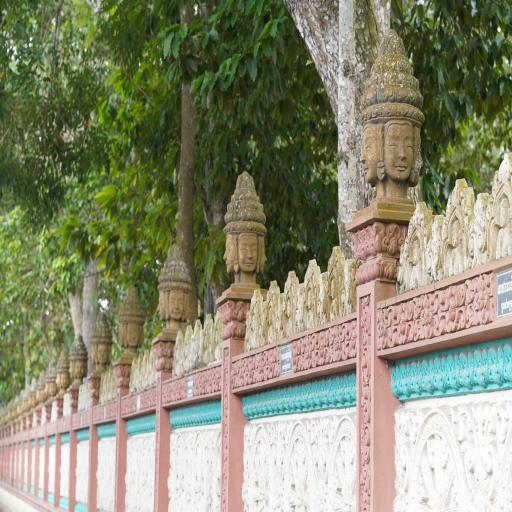hoa: (414, 409, 466, 512), (280, 419, 314, 512), (327, 415, 359, 509), (246, 422, 273, 512), (443, 286, 461, 334), (472, 278, 490, 323), (418, 293, 434, 338), (393, 304, 411, 344), (316, 330, 328, 367), (302, 334, 314, 370), (265, 350, 278, 380), (331, 326, 342, 361), (378, 310, 388, 348), (348, 320, 358, 358), (290, 341, 300, 373)
la: (467, 192, 489, 264), (425, 215, 443, 282), (344, 259, 357, 311), (383, 222, 402, 256), (317, 274, 329, 324), (295, 282, 306, 334), (450, 179, 468, 206), (498, 152, 512, 185), (461, 186, 475, 216), (258, 301, 267, 347), (372, 222, 384, 256), (420, 210, 435, 236), (489, 167, 502, 196), (411, 205, 428, 224), (444, 194, 456, 220), (349, 232, 360, 259), (401, 232, 412, 258), (366, 225, 374, 260), (330, 248, 344, 268), (267, 282, 279, 304), (306, 257, 318, 278), (234, 300, 246, 321), (384, 261, 397, 280), (356, 229, 365, 256), (361, 228, 369, 258), (486, 194, 494, 221), (286, 272, 298, 290), (406, 218, 420, 232), (441, 218, 450, 239), (227, 299, 235, 322), (252, 289, 264, 303), (399, 242, 406, 264), (365, 264, 373, 283), (372, 264, 382, 279), (361, 266, 369, 284), (354, 267, 362, 284), (325, 260, 332, 278), (301, 270, 308, 287), (222, 304, 228, 323), (236, 325, 244, 339), (282, 293, 288, 311), (218, 305, 223, 324), (220, 328, 229, 338), (229, 325, 234, 338)
than: (347, 23, 432, 229), (219, 166, 273, 302), (157, 244, 192, 344), (116, 284, 145, 356), (383, 118, 411, 178), (90, 311, 116, 373), (358, 120, 380, 182), (67, 331, 91, 386), (236, 230, 258, 274), (496, 197, 510, 257), (409, 239, 424, 289), (414, 124, 425, 188), (222, 230, 238, 273), (449, 221, 462, 273), (56, 349, 70, 394), (48, 358, 62, 400), (18, 383, 30, 426), (27, 375, 40, 414), (258, 231, 268, 277), (36, 365, 48, 403), (330, 278, 338, 320), (285, 300, 294, 334), (306, 290, 314, 326), (250, 314, 258, 347), (268, 308, 275, 342)
